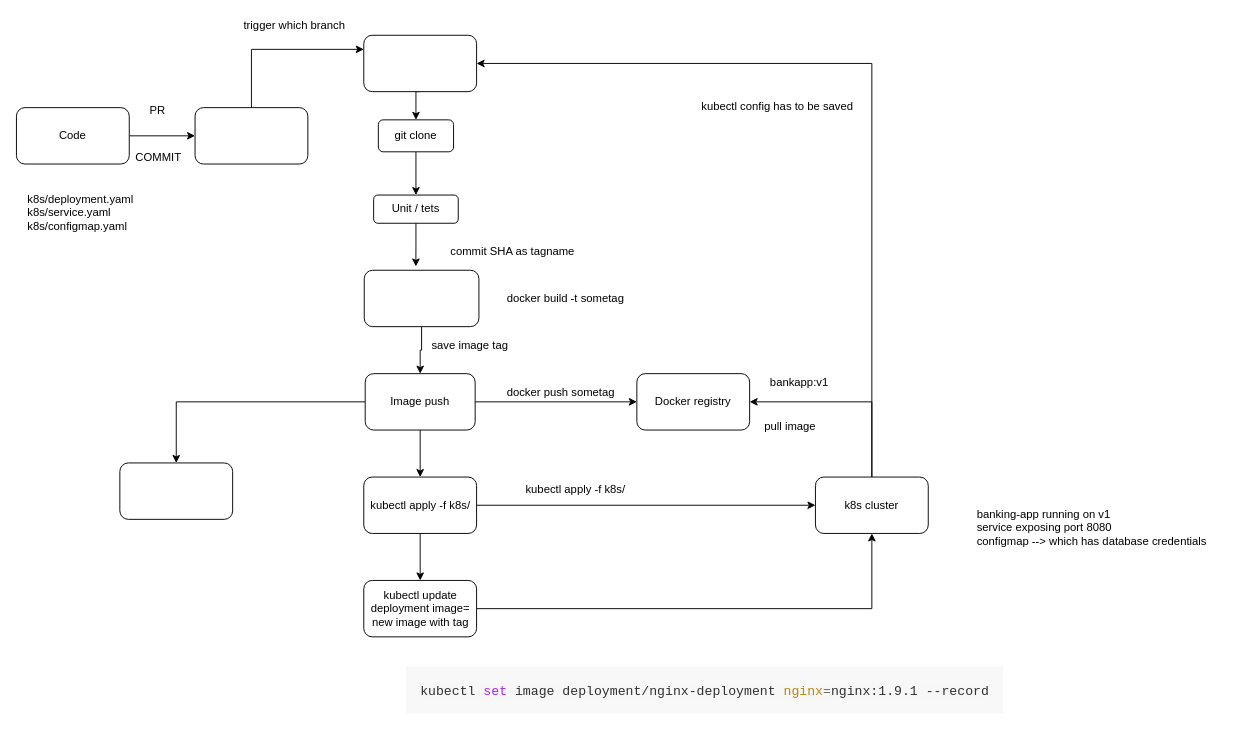
This 1236x748 diagram has some shape labels left out. The box of each missing label's shape, as (x1, y1, x2, y2) in pixels:
bamboo / jenkins: (363, 34, 477, 92)
Git: (194, 107, 308, 164)
Image build with tag: (363, 269, 479, 327)
Platformer Cloud: (119, 462, 233, 519)
